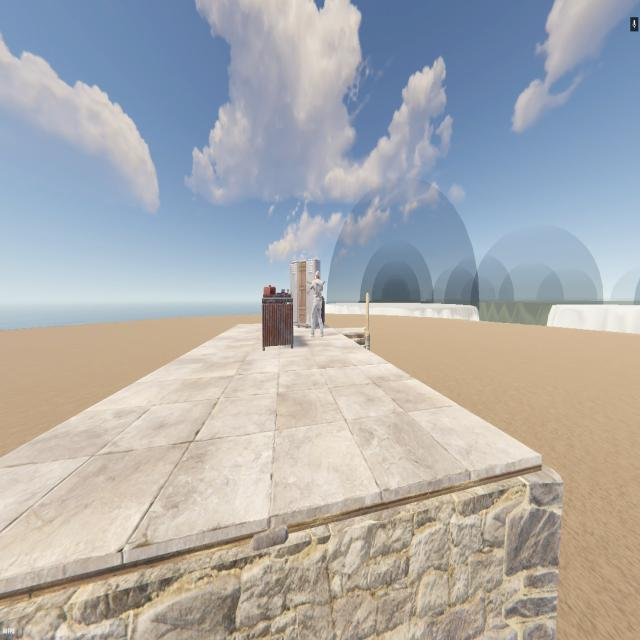Player: (308, 269, 326, 341)
